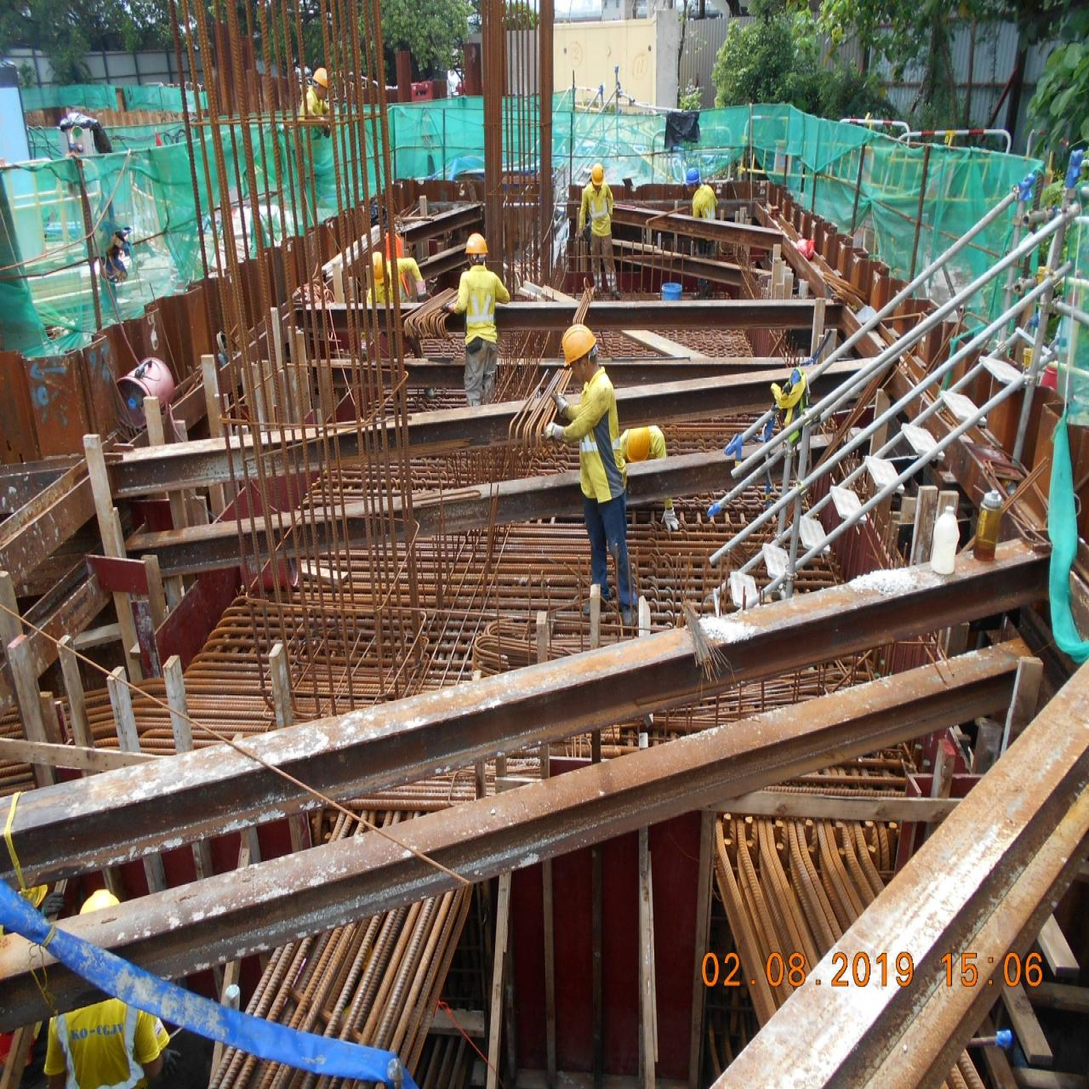NO_Safety_Vest: (55, 1001, 151, 1089), (571, 370, 628, 506), (452, 265, 511, 343), (580, 179, 615, 237), (373, 263, 409, 305), (691, 184, 718, 219), (302, 91, 328, 117)
Person: (538, 307, 653, 630), (38, 882, 178, 1089), (446, 227, 514, 402), (616, 414, 683, 536), (679, 158, 725, 298), (576, 161, 618, 299), (361, 245, 428, 324), (302, 66, 335, 139)
